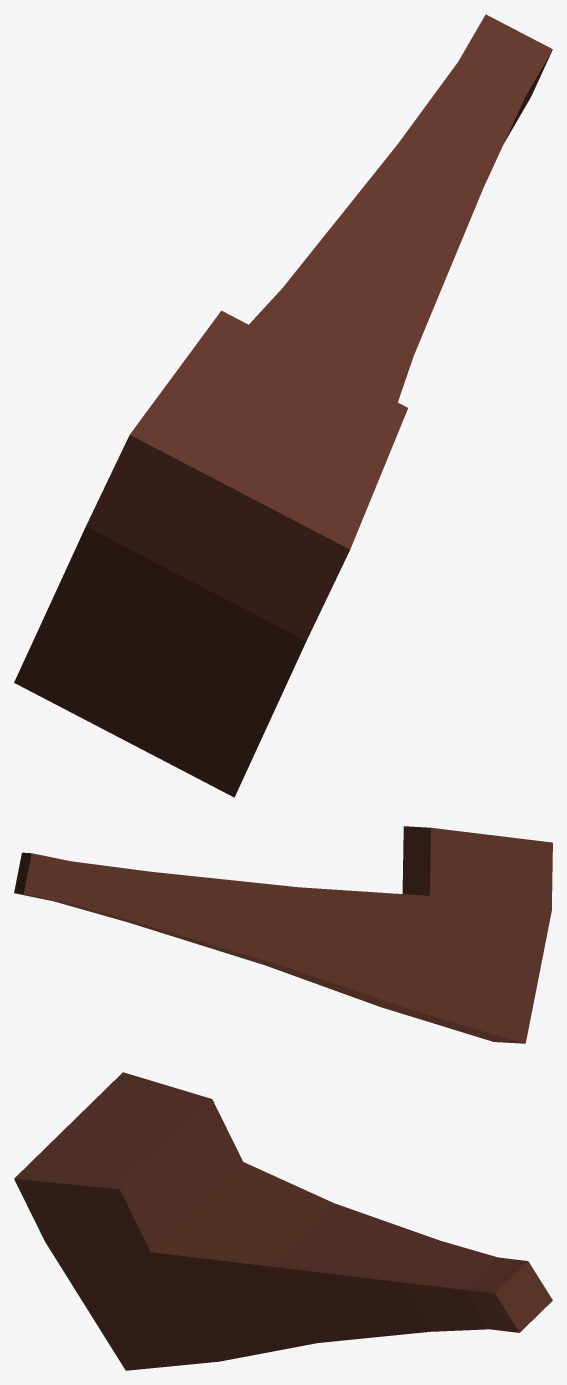
The picture shows the model from 3 angles, top to bottom: view 1: azimuth 30°, elevation 25°; view 2: azimuth 150°, elevation 25°; view 3: azimuth 270°, elevation 25°; orthographic projection. The views are drawn at different scales.
Visible parts, largest first — view 1: 立方体.001; view 2: 立方体.001; view 3: 立方体.001.
Boxes of the visible parts, x1,y1,x2,y2 form: 立方体.001: (14, 14, 552, 797); 立方体.001: (14, 826, 552, 1043); 立方体.001: (14, 1072, 552, 1370).
Size of the model in its own units: 20.71 by 11.65 by 19.58.
